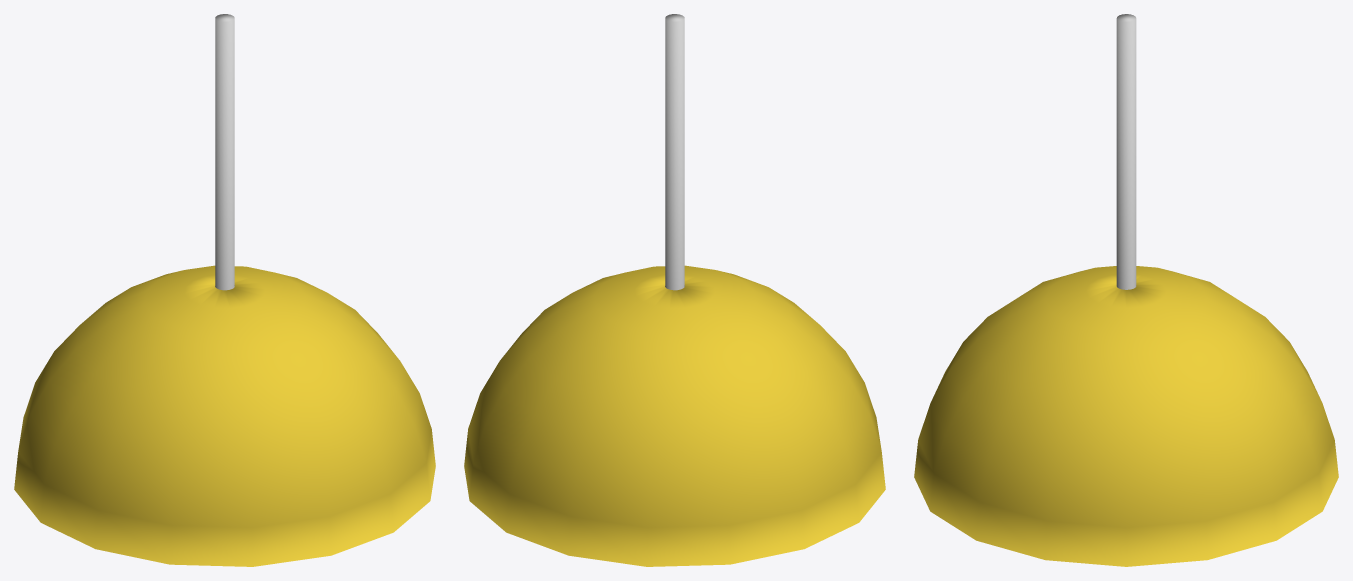
Rendered from Lamp.fbx.
The picture shows the model from 3 angles, left to right: view 1: azimuth 30°, elevation 25°; view 2: azimuth 150°, elevation 25°; view 3: azimuth 270°, elevation 25°; orthographic projection.
Parts seen in each view (by area): view 1: Light_Ceiling; view 2: Light_Ceiling; view 3: Light_Ceiling.
Part boxes in pixels (<box>): Light_Ceiling: <box>14,14,435,566</box>; Light_Ceiling: <box>464,14,885,566</box>; Light_Ceiling: <box>914,14,1338,566</box>.
Size of the model in its own units: 28.5 by 33.99 by 28.5.
